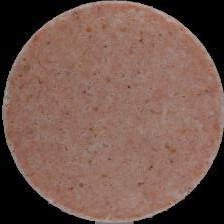63187-722: (0, 0, 224, 224)
